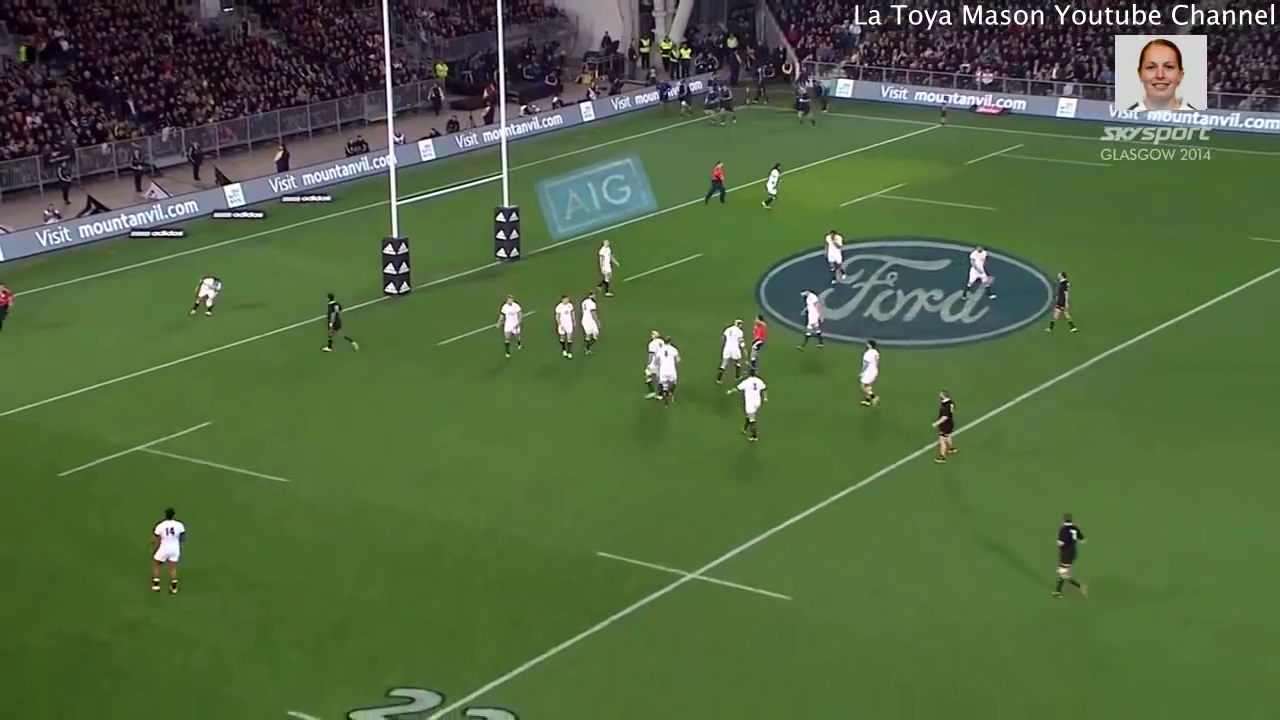player: (1047, 503, 1097, 609), (724, 363, 777, 456), (145, 504, 189, 607), (315, 283, 365, 362), (924, 384, 965, 473), (1041, 264, 1088, 340), (849, 332, 885, 420), (954, 238, 1001, 304), (707, 312, 747, 389), (492, 286, 529, 366), (549, 288, 585, 368), (792, 286, 833, 356), (743, 309, 778, 384), (652, 335, 686, 410), (636, 323, 669, 399), (817, 224, 854, 290), (573, 285, 602, 363), (592, 235, 625, 300), (756, 154, 789, 216), (190, 269, 226, 322), (792, 82, 822, 133), (715, 81, 744, 129), (704, 152, 729, 207), (1, 274, 18, 347), (698, 80, 722, 129), (674, 79, 698, 118), (654, 75, 676, 115)
post: (363, 1, 537, 300)
